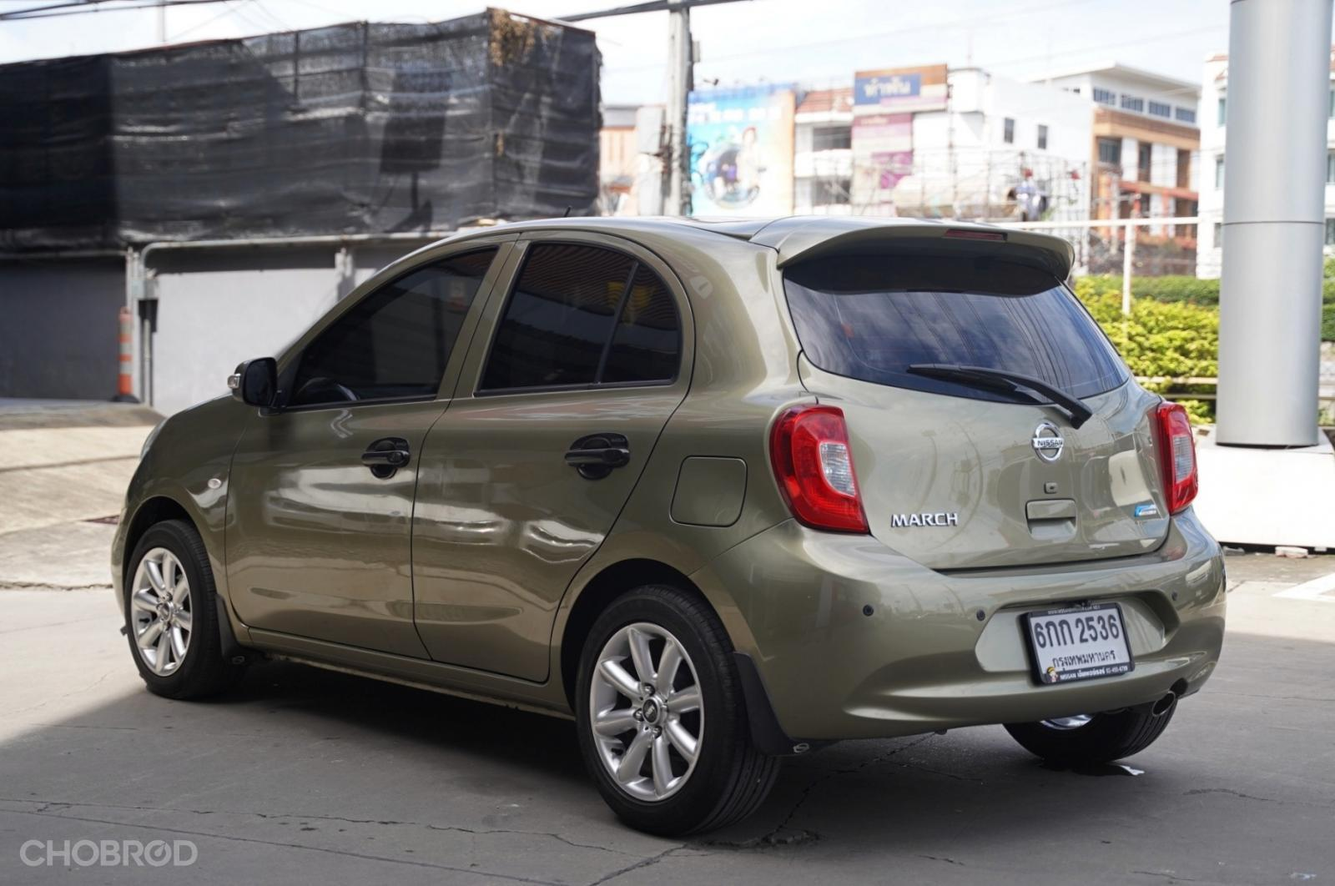license-plate: (1009, 591, 1140, 694)
